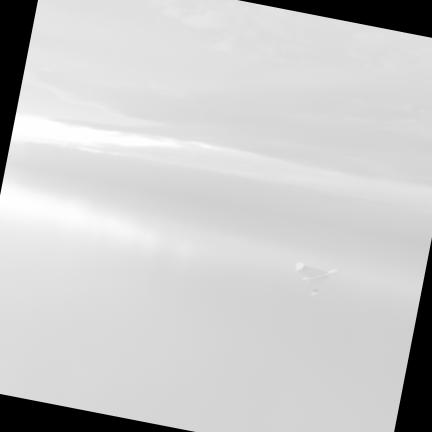Shahed: (296, 263, 338, 295)
